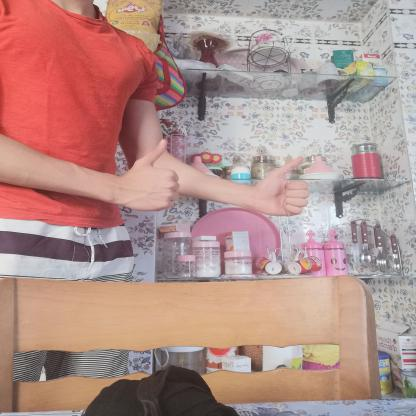ALIF: (106, 130, 188, 216), (245, 147, 318, 222)
